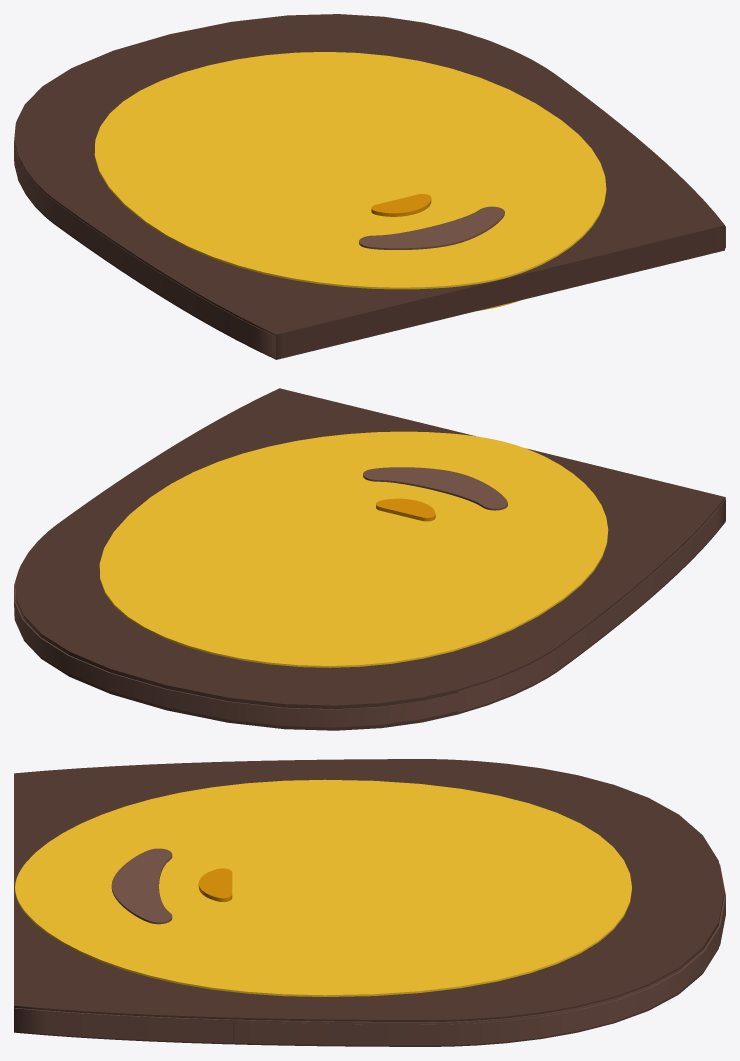
Rendered from emoji_u1f469.glb.
The picture shows the model from 3 angles, top to bottom: view 1: azimuth 30°, elevation 25°; view 2: azimuth 150°, elevation 25°; view 3: azimuth 270°, elevation 25°; orthographic projection. The views are drawn at different scales.
Visible parts, largest first — view 1: emoji_u1f469; view 2: emoji_u1f469; view 3: emoji_u1f469.
Boxes of the visible parts, x1,y1,x2,y2 form: emoji_u1f469: (14,14,725,359); emoji_u1f469: (14,388,725,730); emoji_u1f469: (14,759,725,1046).
Size of the model in its own units: 0.0293 by 0.002 by 0.0337.
